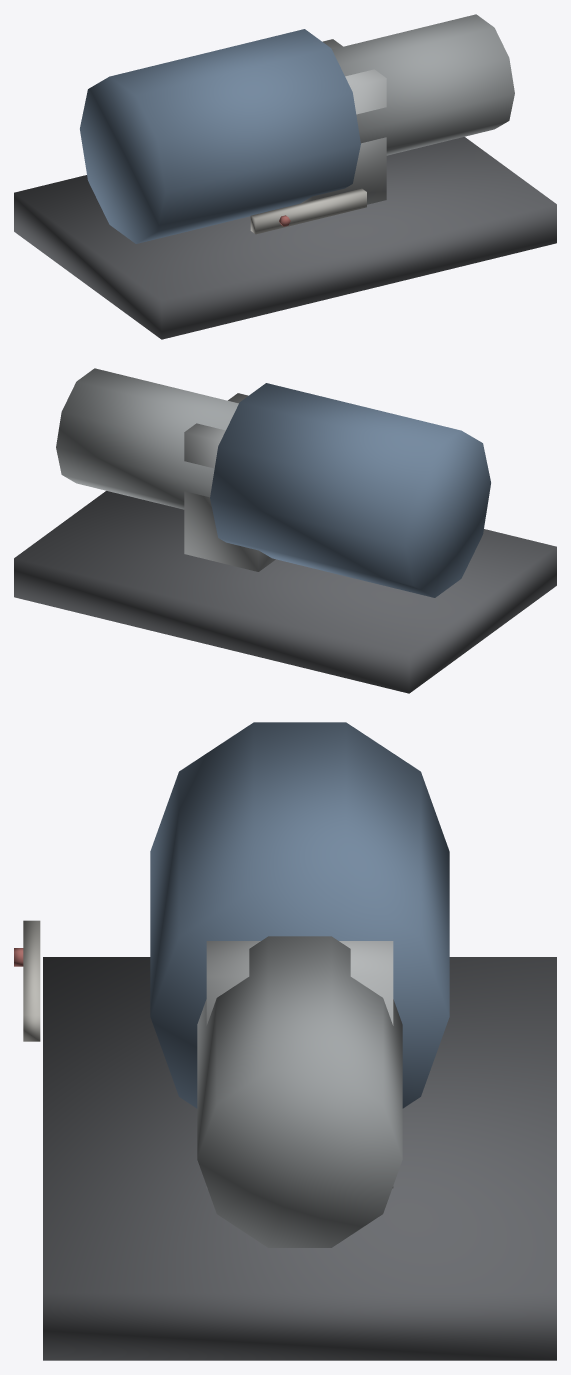
File: pump_skid.glb
The picture shows the model from 3 angles, top to bottom: view 1: azimuth 30°, elevation 25°; view 2: azimuth 150°, elevation 25°; view 3: azimuth 270°, elevation 25°; orthographic projection. The views are drawn at different scales.
Visible parts, largest first — view 1: world; view 2: world; view 3: world.
Boxes of the visible parts, x1,y1,x2,y2 form: world: (14,14,556,339); world: (14,368,556,693); world: (14,722,556,1360).
Size of the model in its own units: 0.855 by 0.3922 by 0.581.
